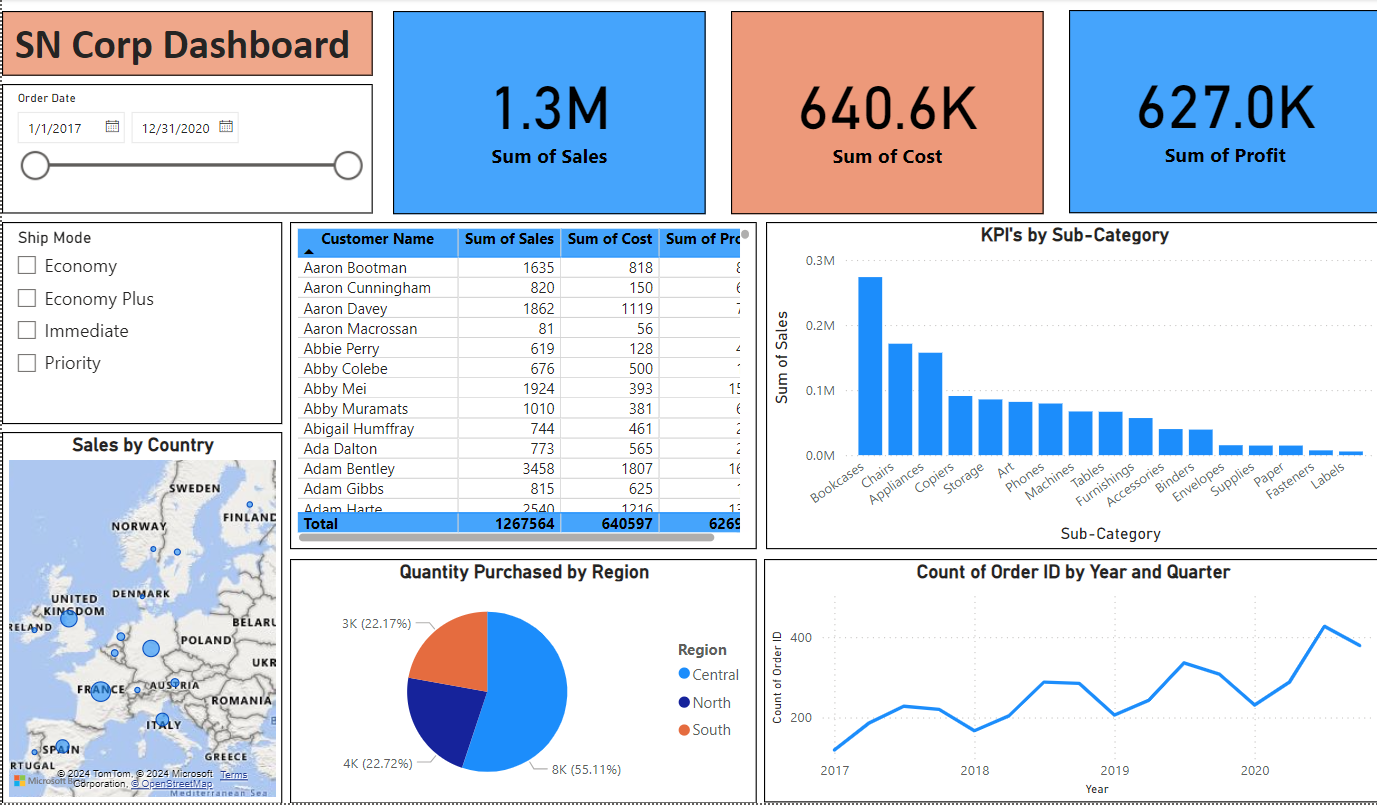

Layout of this report page (visuals, bound fields, positions):
{"tool":"powerbi","page":{"name":"Page 1","canvas":[1280,720],"ordinal":0},"visuals":[{"type":"card","title":"S","fields":{"Values":["List of Orders.Sales"]},"box":[350.2,10.7,280.1,181.9],"z":0},{"type":"card","fields":{"Values":["List of Orders.Profit"]},"box":[955.1,9.7,280.1,181.9],"z":1000},{"type":"card","fields":{"Values":["List of Orders.Cost"]},"box":[652.6,10.7,280.1,181.9],"z":2000},{"type":"tableEx","fields":{"Values":["List of Orders.Customer Name","List of Orders.Sales","List of Orders.Cost","List of Orders.Profit"]},"box":[257.8,199.4,418.2,292.8],"z":3000},{"type":"clusteredColumnChart","title":"KPI''s by Sub-Category","fields":{"Category":["List of Orders.Sub-Category"],"Y":["List of Orders.Sales"]},"box":[683.8,199.4,551.5,292.8],"z":4000},{"type":"lineChart","fields":{"Y":["List of Orders.Order ID"],"Category":["List of Orders.Order Date.Variation.Date Hierarchy.Year","List of Orders.Order Date.Variation.Date Hierarchy.Quarter"]},"box":[682.8,501.9,552.5,217.9],"z":5000},{"type":"pieChart","title":"Quantity Purchased by Region","fields":{"Y":["List of Orders.Quantity"],"Category":["List of Orders.Region"]},"box":[257.8,501.9,418.2,218.8],"z":6000},{"type":"map","title":"Sales by Country","fields":{"Category":["List of Orders.Country"],"Size":["List of Orders.Sales"]},"box":[0,388.1,250.9,332.6],"z":7000},{"type":"textbox","box":[0,10.7,331.7,58.4],"z":8000},{"type":"slicer","fields":{"Values":["List of Orders.Order Date"]},"box":[0,75.9,331.7,115.7],"z":9000},{"type":"slicer","fields":{"Values":["List of Orders.Ship Mode"]},"box":[0,199.4,250.9,180.9],"z":10000}]}

Visuals, with their boxes in screenshot pixels (x1, y1, x2, y2):
"S" card: box=[385, 12, 693, 212]
card - List of Orders.Profit: box=[1051, 11, 1359, 211]
card - List of Orders.Cost: box=[718, 12, 1026, 212]
tableEx - List of Orders.Customer Name x List of Orders.Sales: box=[284, 219, 744, 541]
"KPI''s by Sub-Category" clusteredColumnChart: box=[752, 219, 1359, 541]
lineChart - List of Orders.Order ID x List of Orders.Order Date.Variation.Date Hierarchy.Year: box=[751, 552, 1359, 792]
"Quantity Purchased by Region" pieChart: box=[284, 552, 744, 793]
"Sales by Country" map: box=[0, 427, 276, 793]
textbox: box=[0, 12, 365, 76]
slicer - List of Orders.Order Date: box=[0, 83, 365, 211]
slicer - List of Orders.Ship Mode: box=[0, 219, 276, 418]
